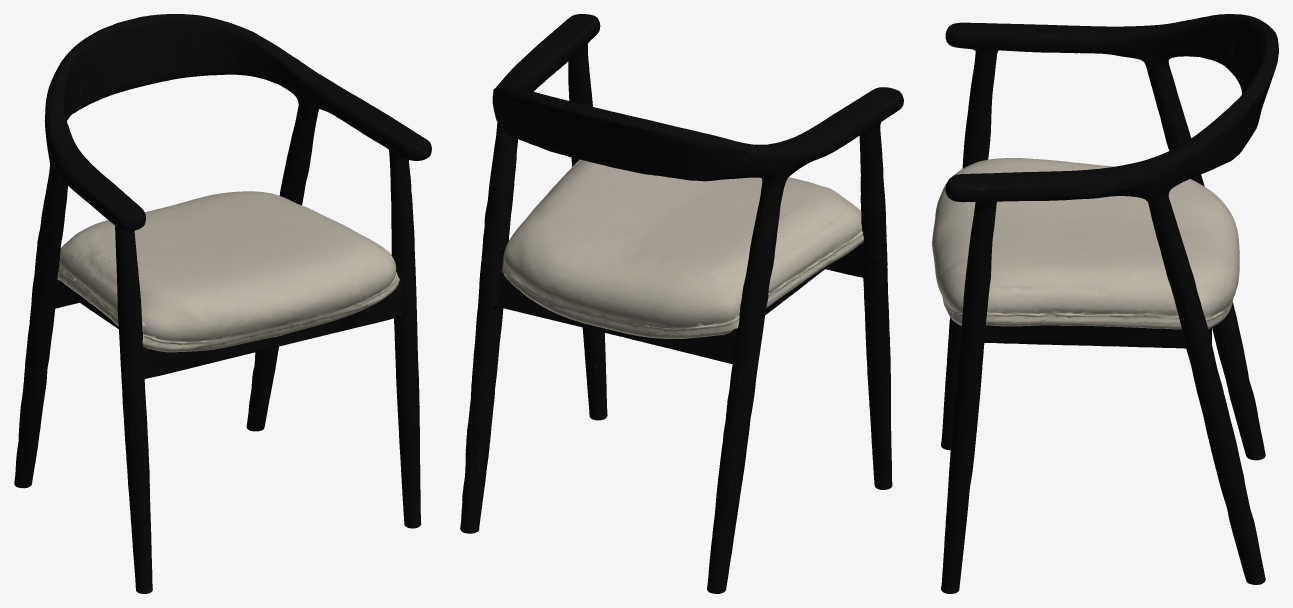
Rendered from item-11.glb.
3 views of the same model, side by side, from view 1: azimuth 30°, elevation 25°; view 2: azimuth 150°, elevation 25°; view 3: azimuth 270°, elevation 25° (orthographic). The views are drawn at different scales.
Visible parts, largest first — view 1: geometry_0; view 2: geometry_0; view 3: geometry_0.
Part boxes in pixels (x1,y1,x2,y2): geometry_0: [14, 14, 431, 593]; geometry_0: [460, 14, 903, 593]; geometry_0: [932, 14, 1278, 593].
Size of the model in its own units: 0.7568 by 0.9977 by 0.66.
Materials: 1 (1 with a texture image).
